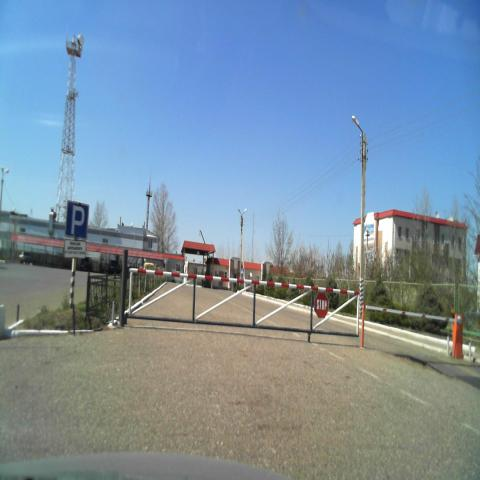2_5: (313, 288, 329, 318)
